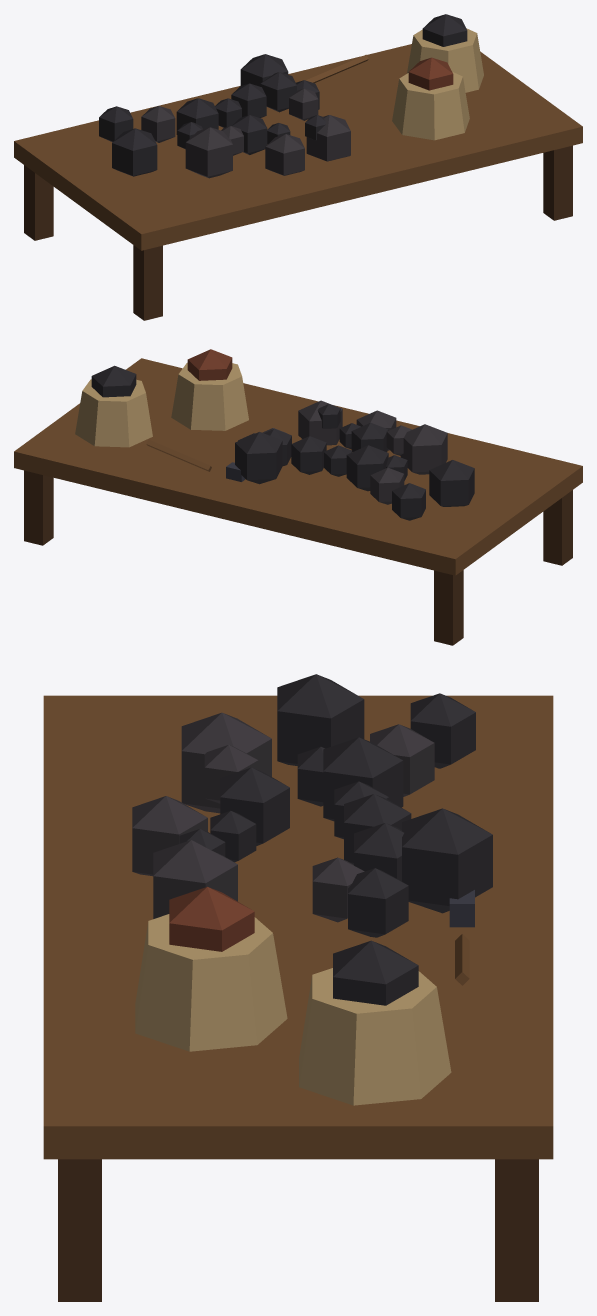
The model's file is soegol_sorting_bench.glb.
The picture shows the model from 3 angles, top to bottom: view 1: azimuth 30°, elevation 25°; view 2: azimuth 150°, elevation 25°; view 3: azimuth 270°, elevation 25°; orthographic projection. The views are drawn at different scales.
Visible parts, largest first — view 1: soegol_sorting_bench; view 2: soegol_sorting_bench; view 3: soegol_sorting_bench.
Part boxes in pixels (x1,y1,x2,y2): soegol_sorting_bench: (14, 14, 582, 320); soegol_sorting_bench: (14, 349, 582, 645); soegol_sorting_bench: (43, 674, 553, 1301).
Bounding box in the file's own units: 2.8 × 0.95 × 1.4.
